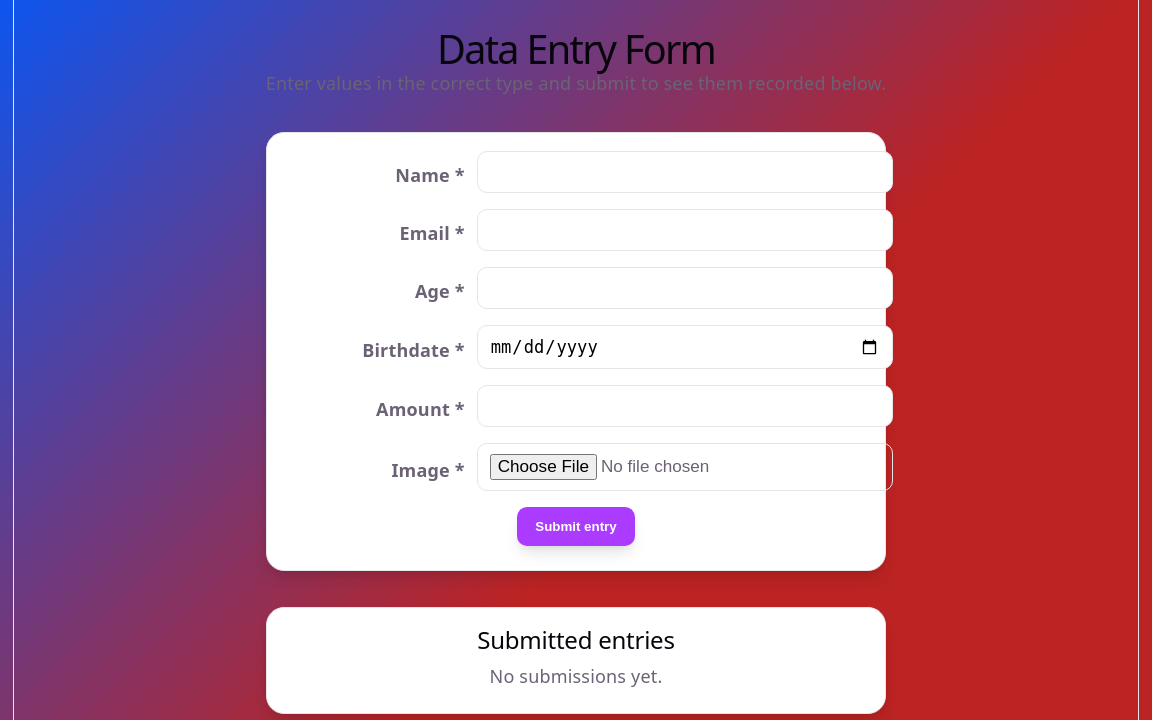
Data entry form › validates email and number fields
Type "Cypress Test" into the field with test id "field-name". click: {"x": 686, "y": 172}
box: 477,151 -> 894,193
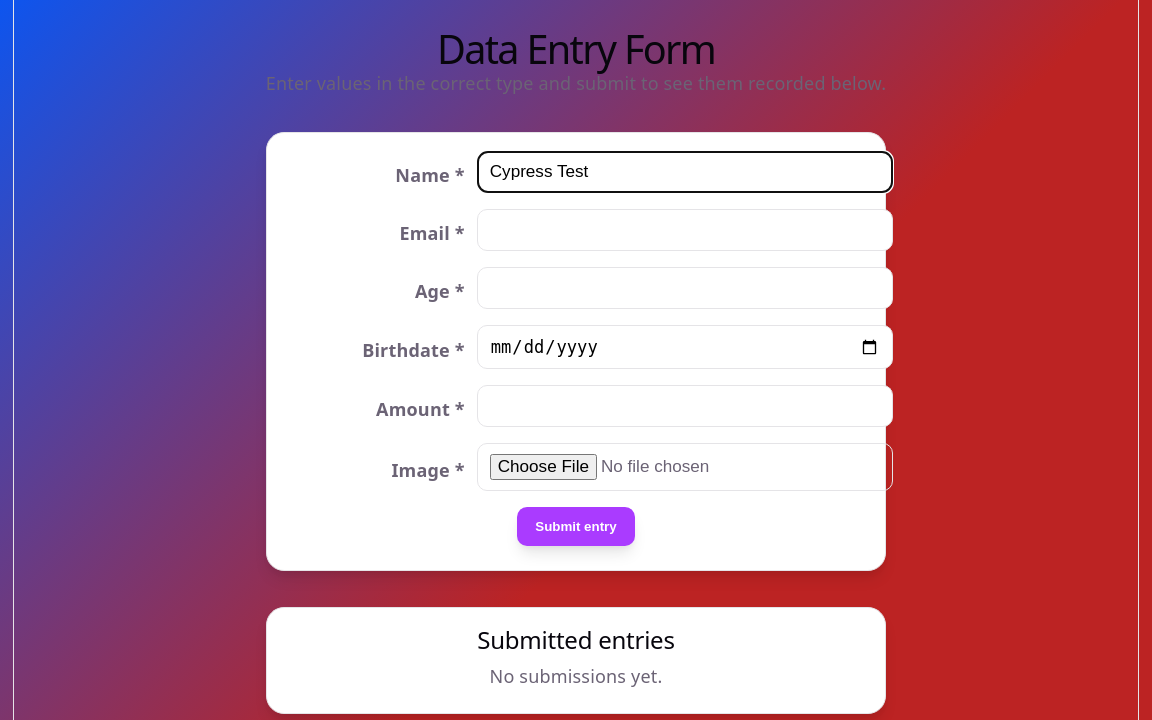
Type "invalid-email" into the field with test id "field-email". click: {"x": 686, "y": 230}
box: 477,209 -> 894,251
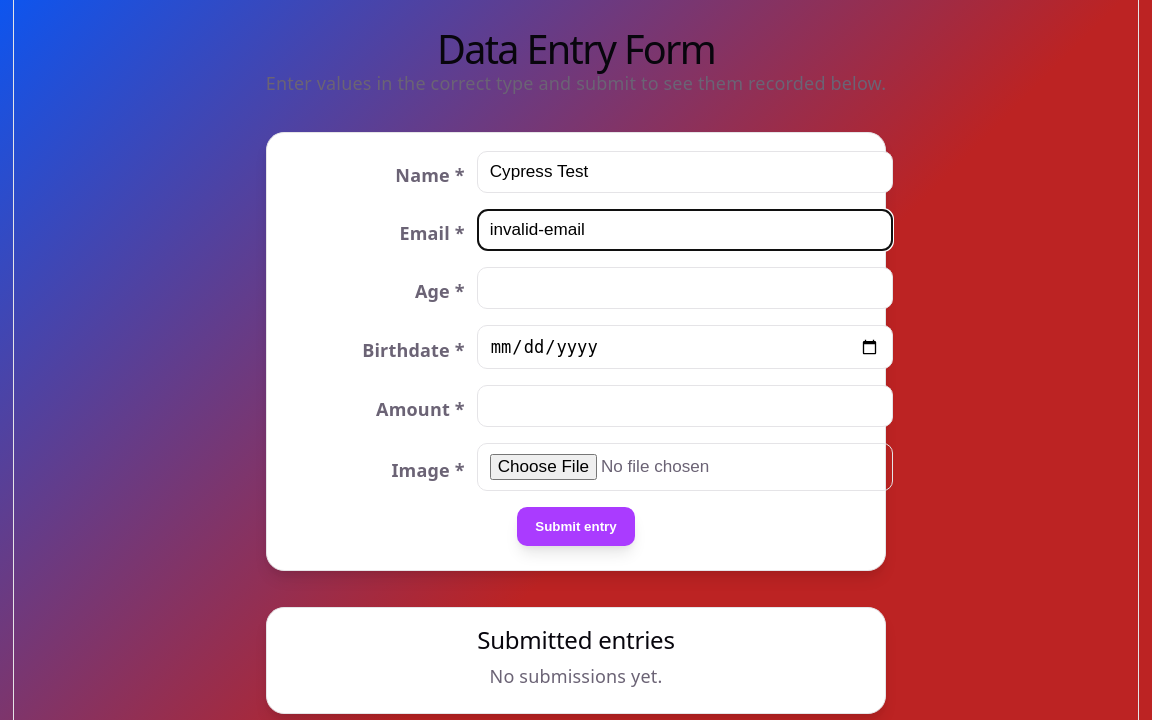
Type "-5" into the number field with test id "field-age". click: {"x": 686, "y": 288}
box: 477,267 -> 894,309
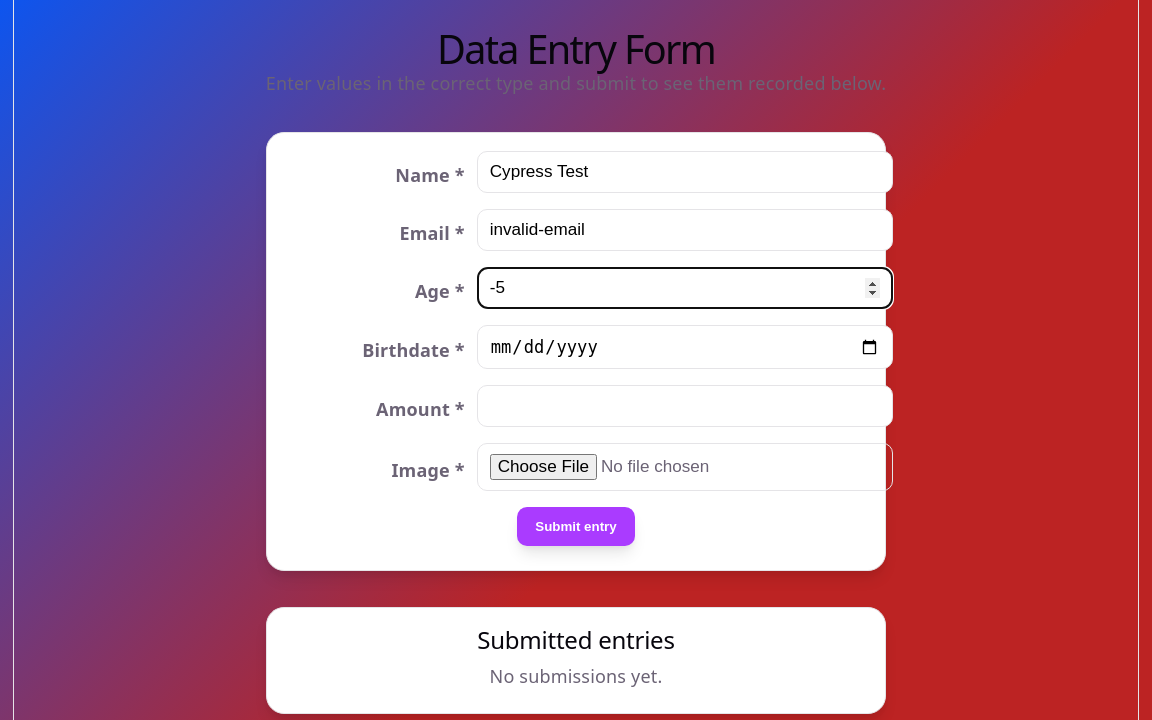
Type "2024-01-01" into the date field with test id "field-birthdate". click: {"x": 686, "y": 347}
box: 477,325 -> 894,369
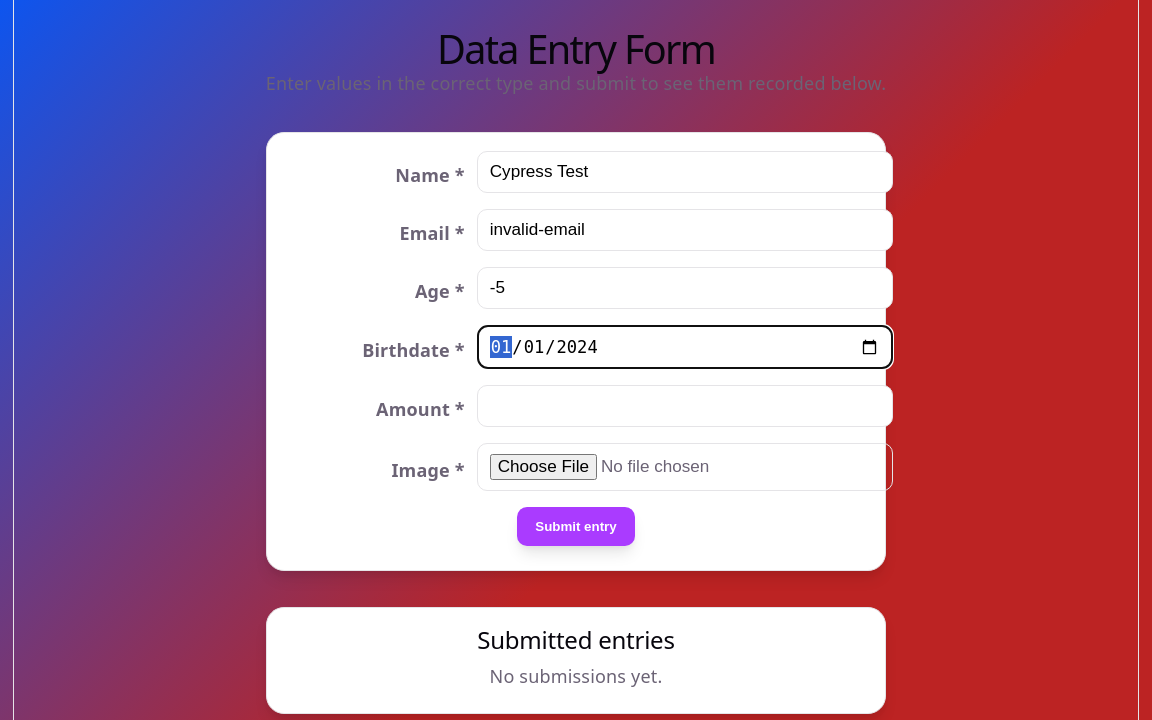
Type "-10" into the number field with test id "field-amount". click: {"x": 686, "y": 406}
box: 477,385 -> 894,427
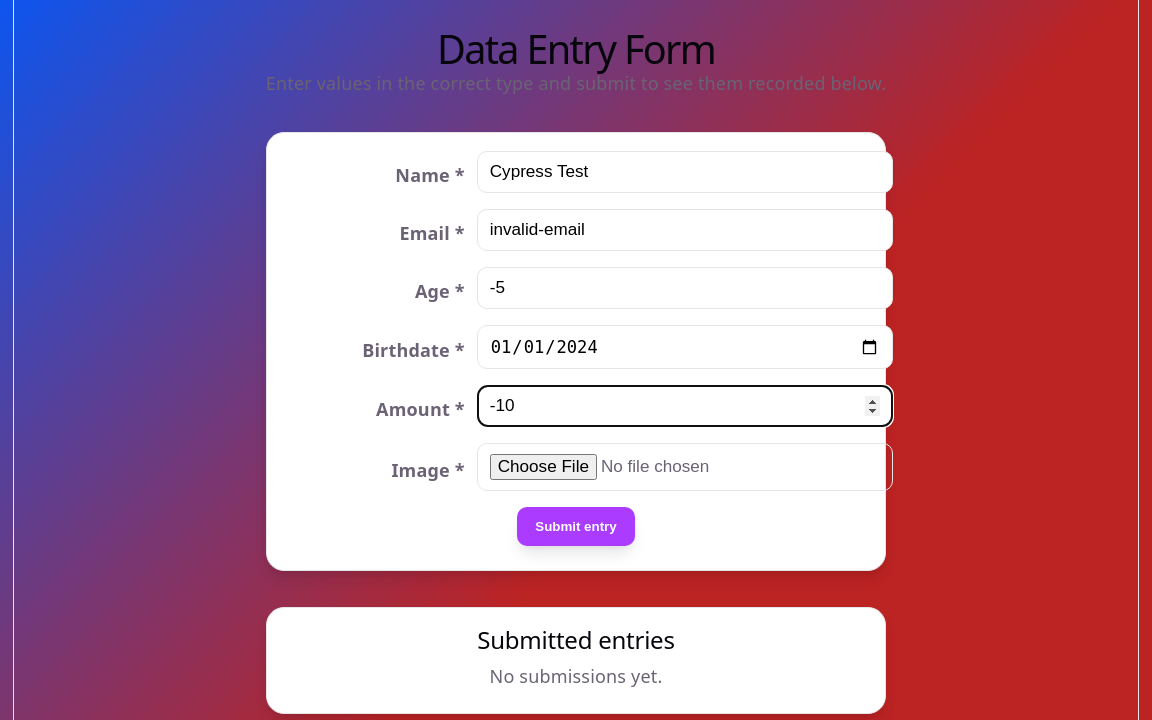
Click the button with test id "submit-entry". click: {"x": 576, "y": 527}
box: 517,507 -> 635,546
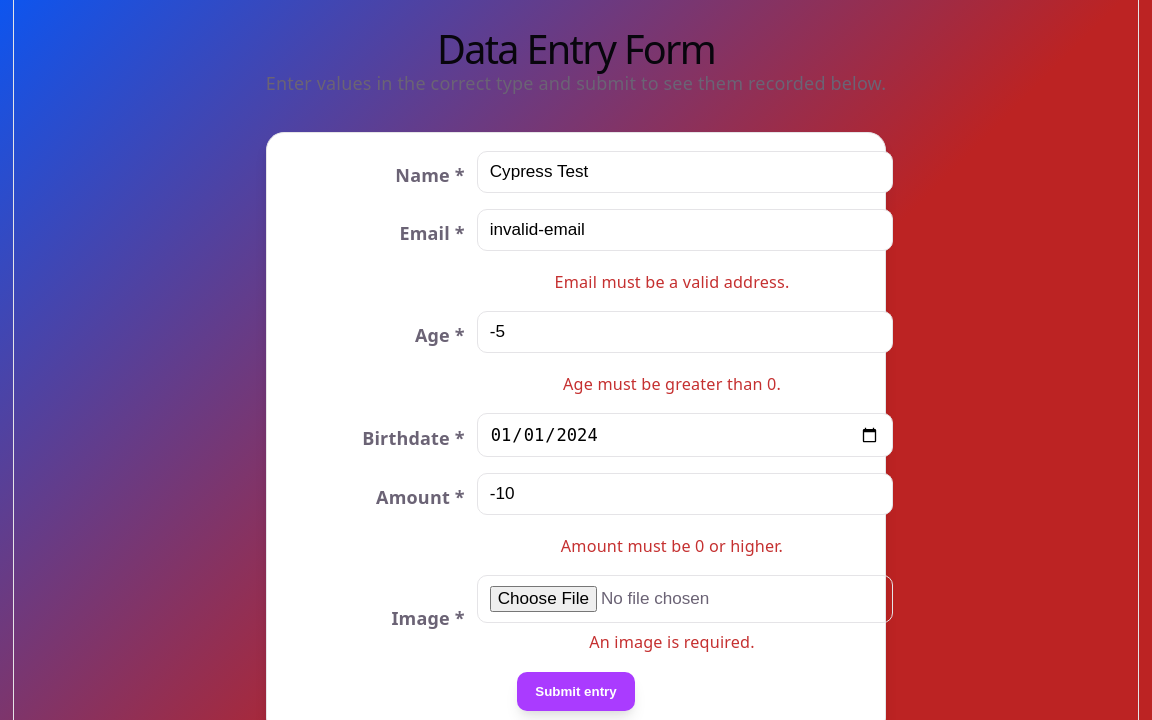
Now the text with test id "error-email" shows "Email must be a valid address", box 555,271 -> 790,293
Now the text with test id "error-age" shows "Age must be greater than 0", box 563,373 -> 781,395
Now the text with test id "error-amount" shows "Amount must be 0 or higher", box 561,535 -> 783,557
